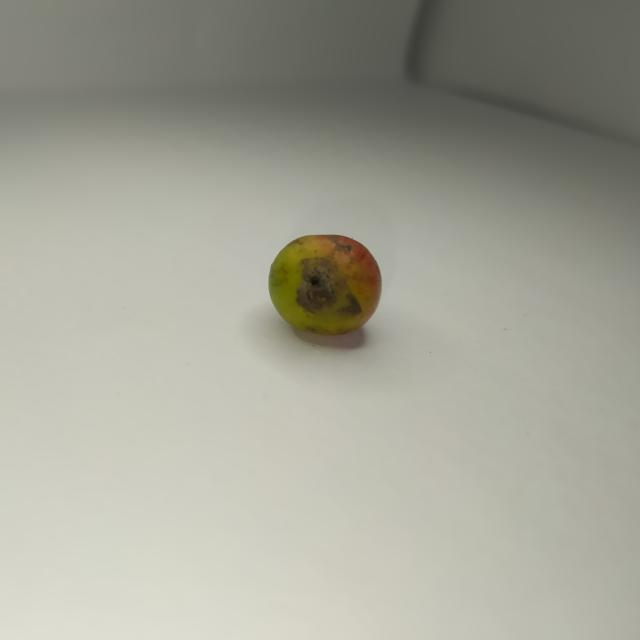Infectado: (268, 236, 381, 337)
